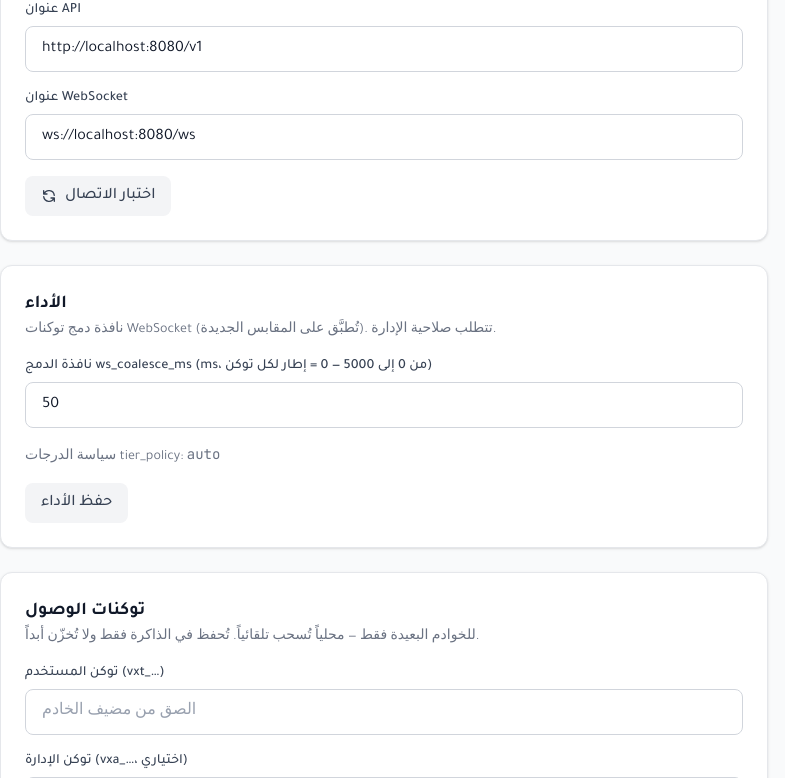
Test: SettingsTab › performance save clamps out-of-range input to 5000
This screenshot has width=785, height=778.
(page scrolled)
Expected: the text "auto" is shown, [187,445,220,463]
Type "99999" into the number field labelled "نافذة الدمج" at (384, 405), box [25,382,743,428]
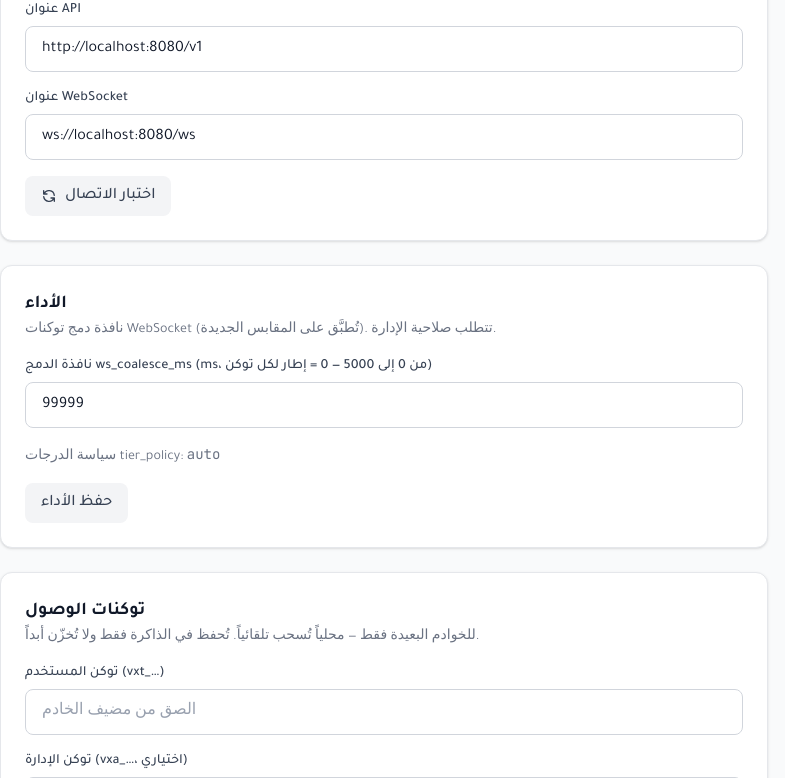
Click the button "حفظ الأداء" at (77, 503), box [25,483,128,523]
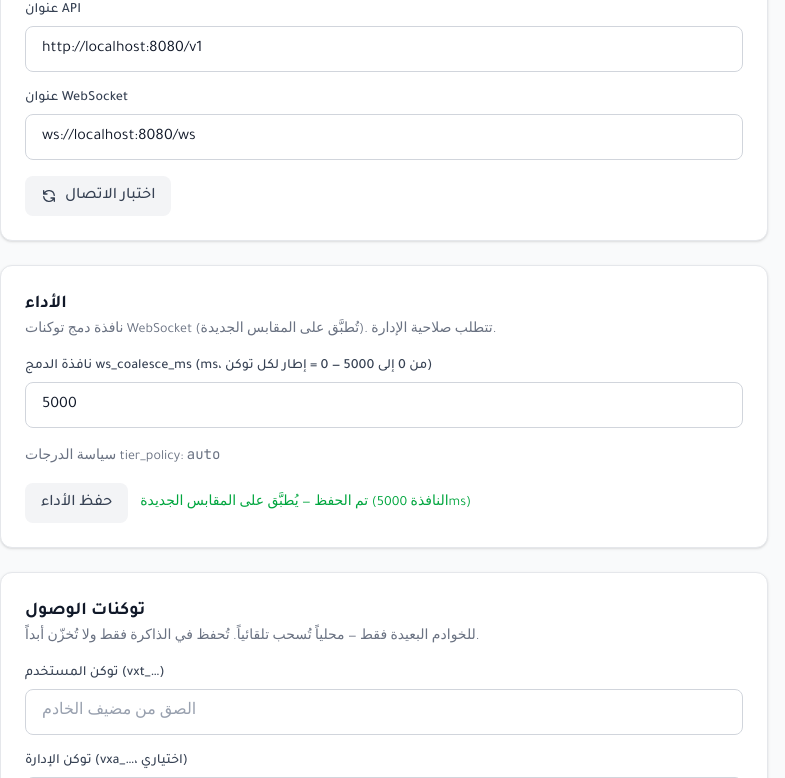
Now the text "تم الحفظ — يُطبَّق على المقابس الجديدة (النافذة 5000ms)" is shown, box [140,493,471,513]
